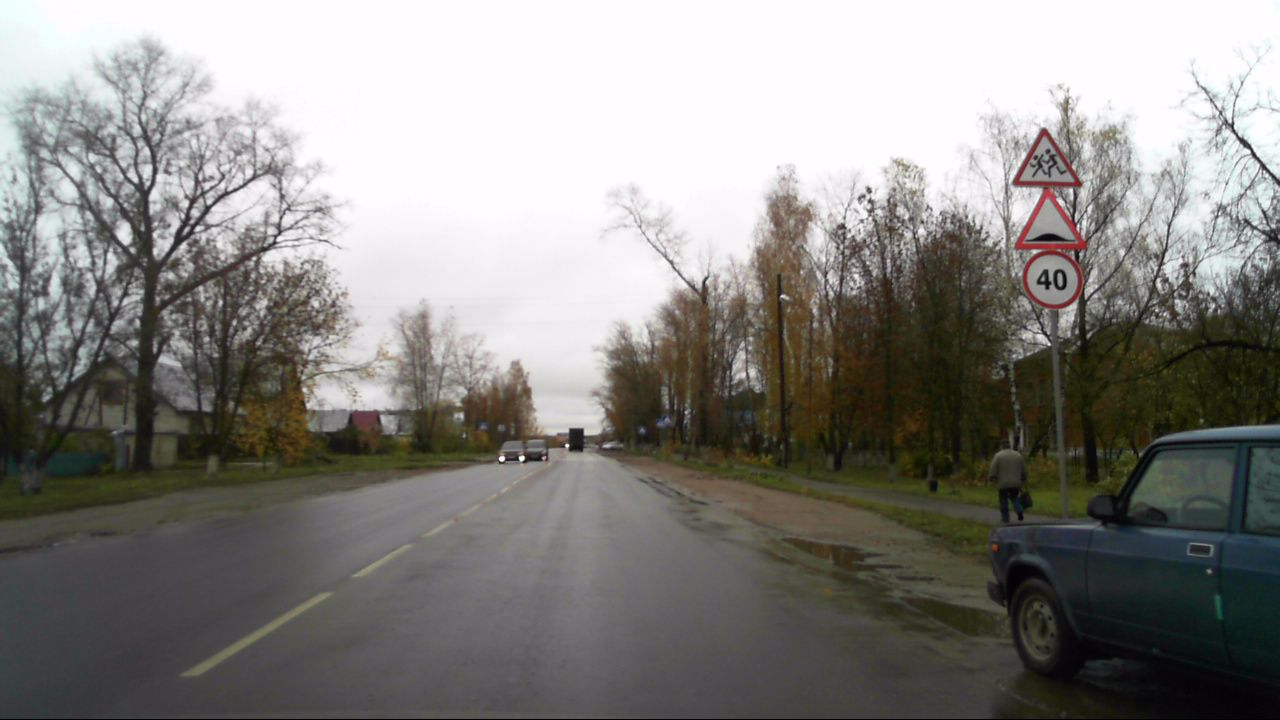speed_warning_40: (1022, 250, 1082, 309)
